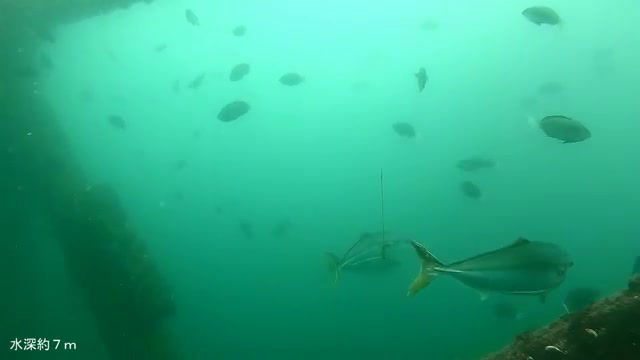hamati: (381, 228, 595, 307)
smallfish: (527, 109, 606, 147), (520, 5, 582, 36), (213, 96, 252, 133)
